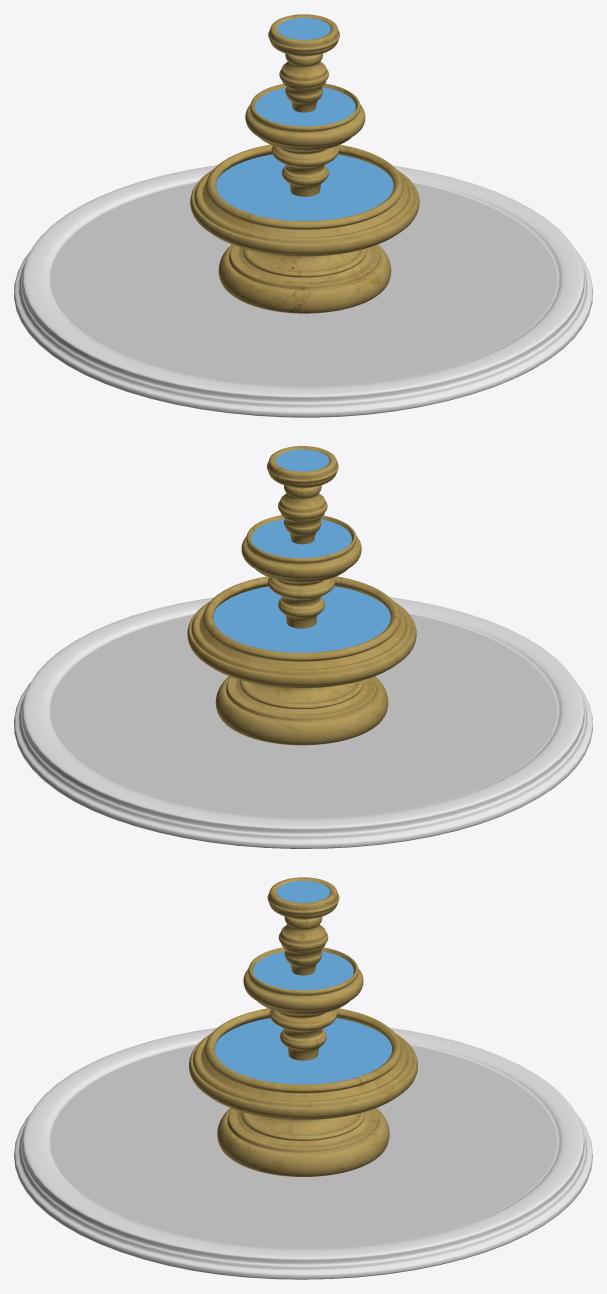
Rendered from Fountain.fbx.
The picture shows the model from 3 angles, top to bottom: view 1: azimuth 30°, elevation 25°; view 2: azimuth 150°, elevation 25°; view 3: azimuth 270°, elevation 25°; orthographic projection.
Parts seen in each view (by area): view 1: Grass, Marble ( Under Grass ), Fountain 1, Water 1, Fountain 2, Fountain 3, Water 2, Water 3; view 2: Grass, Marble ( Under Grass ), Fountain 1, Water 1, Fountain 2, Fountain 3, Water 2, Water 3; view 3: Grass, Marble ( Under Grass ), Fountain 1, Water 1, Fountain 2, Fountain 3, Water 2, Water 3.
Part boxes in pixels (box(x1,y1,x2,y2)): Grass: box(49, 182, 557, 386); Marble ( Under Grass ): box(14, 165, 592, 417); Fountain 1: box(190, 144, 419, 313); Water 1: box(216, 154, 393, 220); Fountain 2: box(245, 83, 365, 196); Fountain 3: box(268, 14, 339, 112); Water 2: box(255, 87, 355, 126); Water 3: box(277, 18, 330, 39); Grass: box(49, 613, 557, 818); Marble ( Under Grass ): box(14, 597, 592, 848); Fountain 1: box(187, 576, 416, 745); Water 1: box(213, 586, 390, 652); Fountain 2: box(241, 515, 361, 628); Fountain 3: box(267, 446, 338, 544); Water 2: box(251, 519, 351, 558); Water 3: box(276, 449, 329, 471); Grass: box(50, 1044, 556, 1248); Marble ( Under Grass ): box(14, 1028, 592, 1279); Fountain 1: box(189, 1008, 417, 1176); Water 1: box(215, 1018, 391, 1084); Fountain 2: box(243, 947, 363, 1060); Fountain 3: box(267, 877, 339, 975); Water 2: box(253, 951, 353, 990); Water 3: box(277, 881, 329, 902).
Size of the model in its own units: 611 by 314 by 611.
